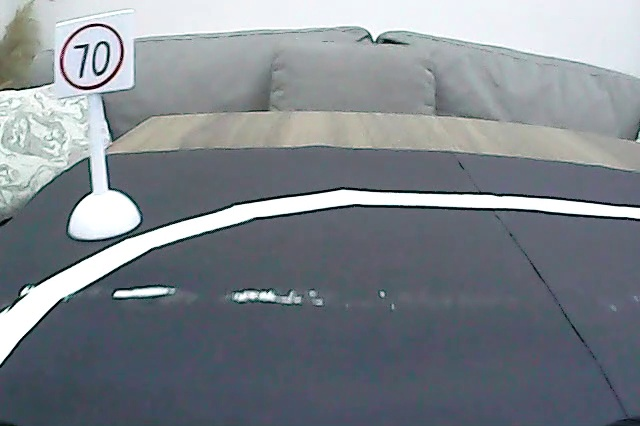speed limit 70: (55, 20, 127, 93)
